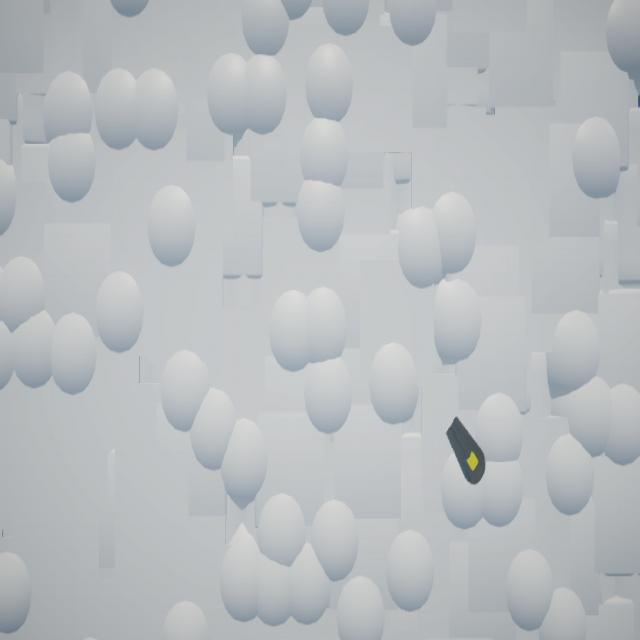handle_folk: (447, 417, 487, 487)
